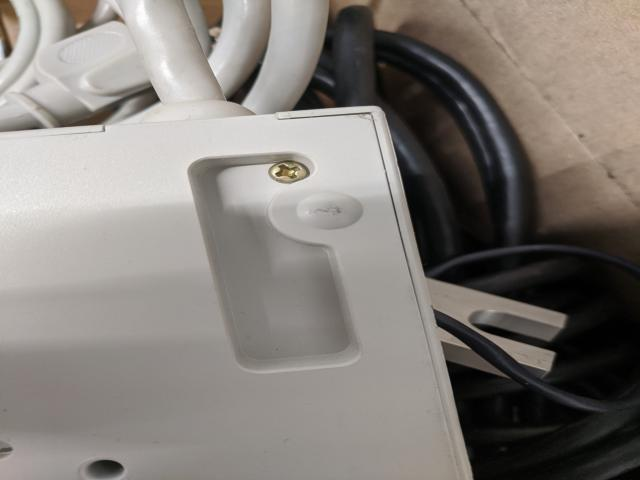CRS: (268, 159, 309, 184)
